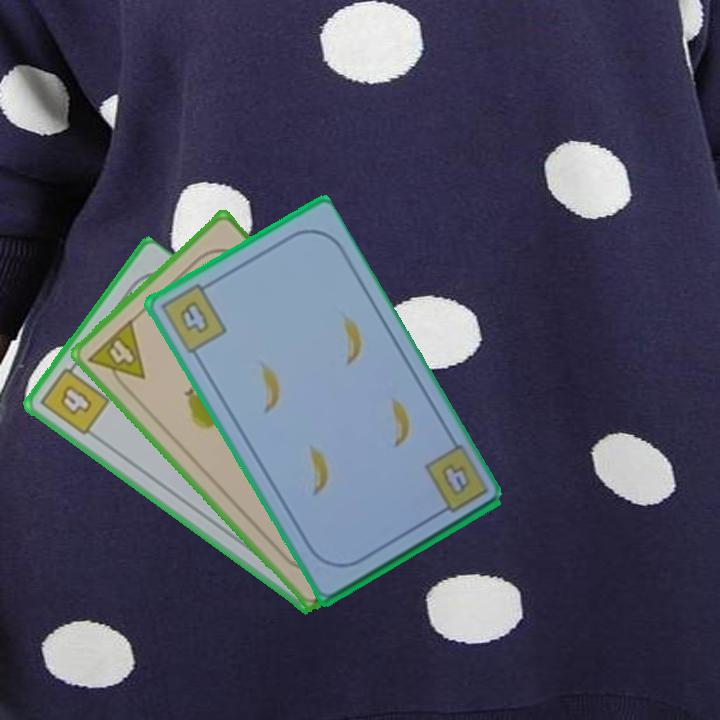4b: (36, 357, 113, 439), (157, 277, 230, 357), (437, 459, 473, 499)
4p: (84, 315, 148, 396)
